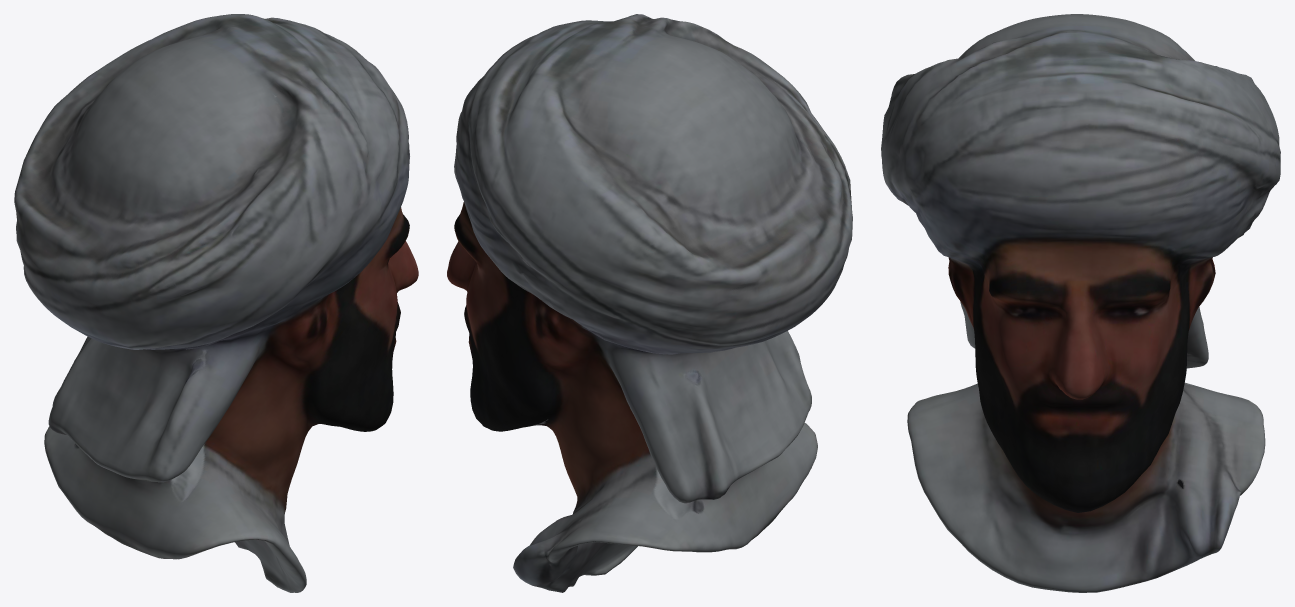
Rendered from 2ce082774e22_25fc755bfb1a_Amir_e_Kabir_s_Head.glb.
3 views of the same model, side by side, from view 1: azimuth 30°, elevation 25°; view 2: azimuth 150°, elevation 25°; view 3: azimuth 270°, elevation 25° (orthographic).
Visible parts, largest first — view 1: mesh; view 2: mesh; view 3: mesh.
Boxes of the visible parts, left/top/right/bottom form: mesh: left=14, top=14, right=418, bottom=592; mesh: left=447, top=14, right=852, bottom=592; mesh: left=881, top=14, right=1280, bottom=592.
Size of the model in its own units: 0.721 by 0.9984 by 0.6591.
Materials: 1 (1 with a texture image).
